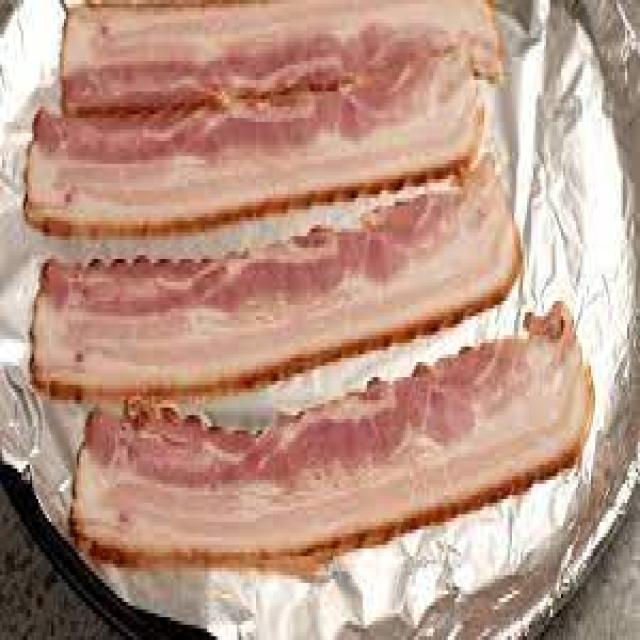bacon: (29, 1, 608, 522)
